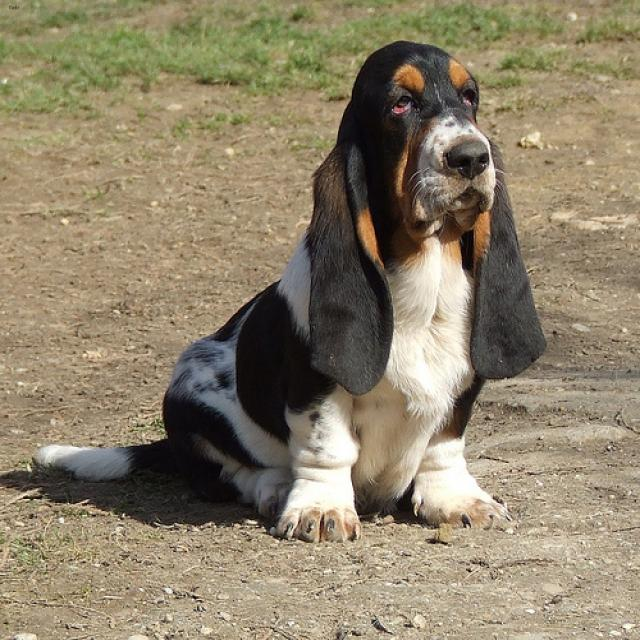dog-basset_hound: (14, 24, 556, 550)
